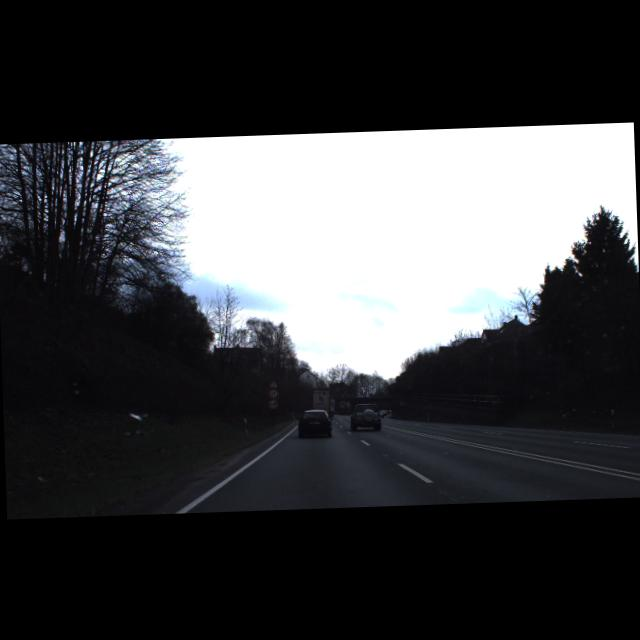danger: (266, 377, 280, 388)
prohibitory: (268, 388, 279, 398), (268, 397, 278, 408)
